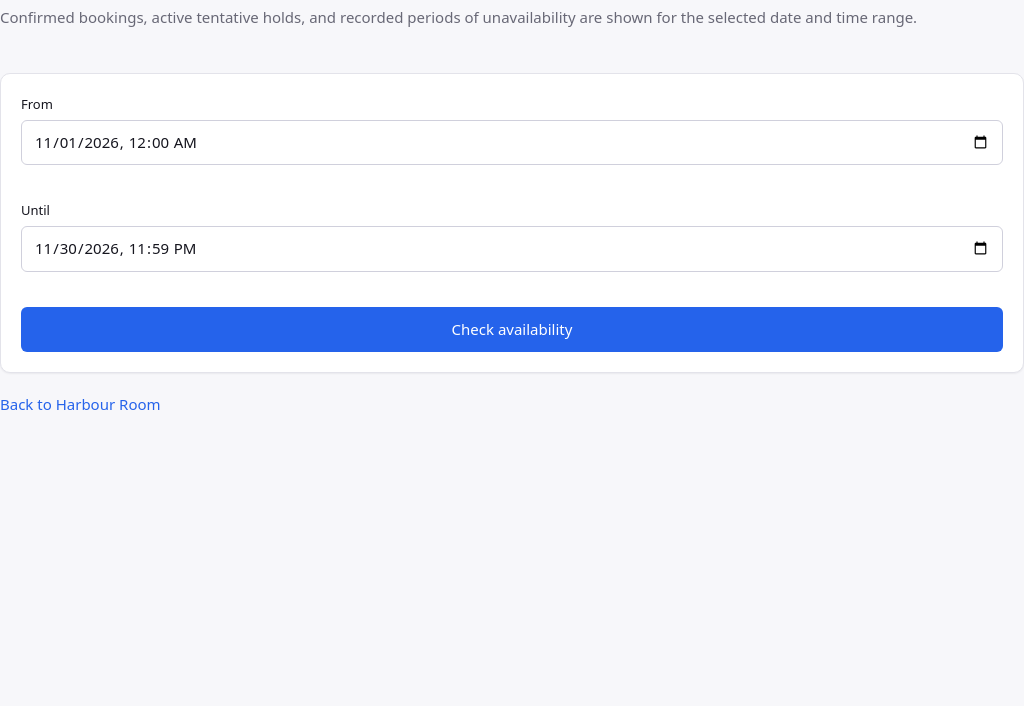
Scenario: View Venue Availability Calendar › marks dates and shows only event names, times, and availability when a date is selected
Click the button "Check availability" at coordinates (512, 329), box [21,306,1003,352]
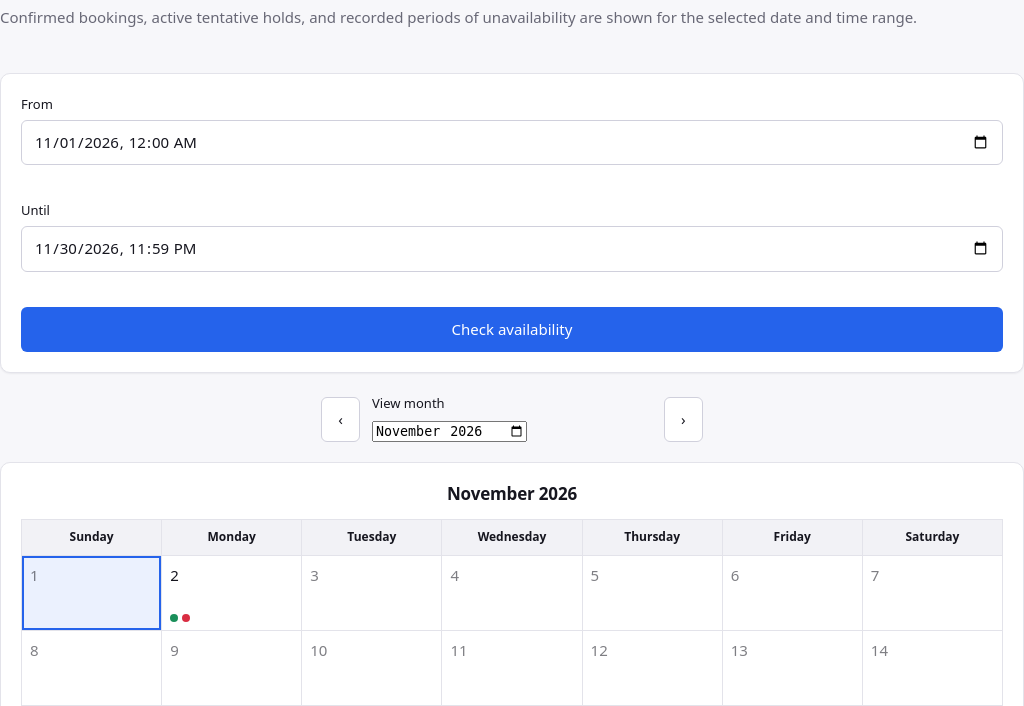
Click the button "2" at coordinates (232, 593), box [162,556,301,630]
(page scrolled)
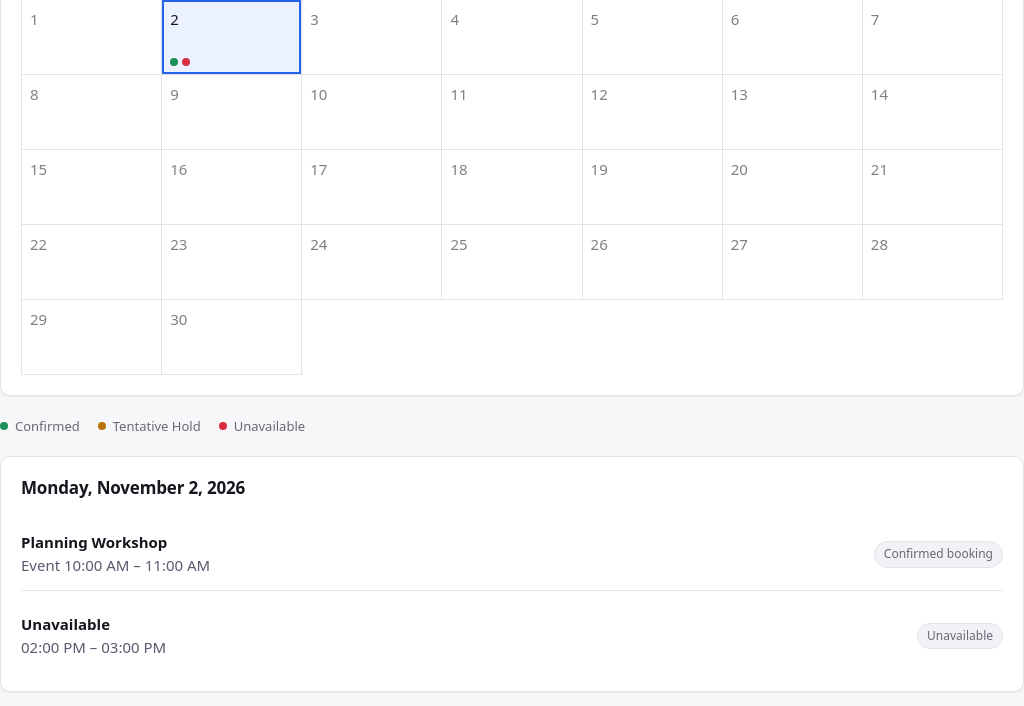
Check: the element named "Availability on 2026-11-02" shows "Confirmed booking", box [884,545,993,562]
Check: the element named "Availability on 2026-11-02" shows "Planning Workshop", box [21,532,167,552]
Check: the element named "Availability on 2026-11-02" shows "Unavailable", box [21,614,110,634]
